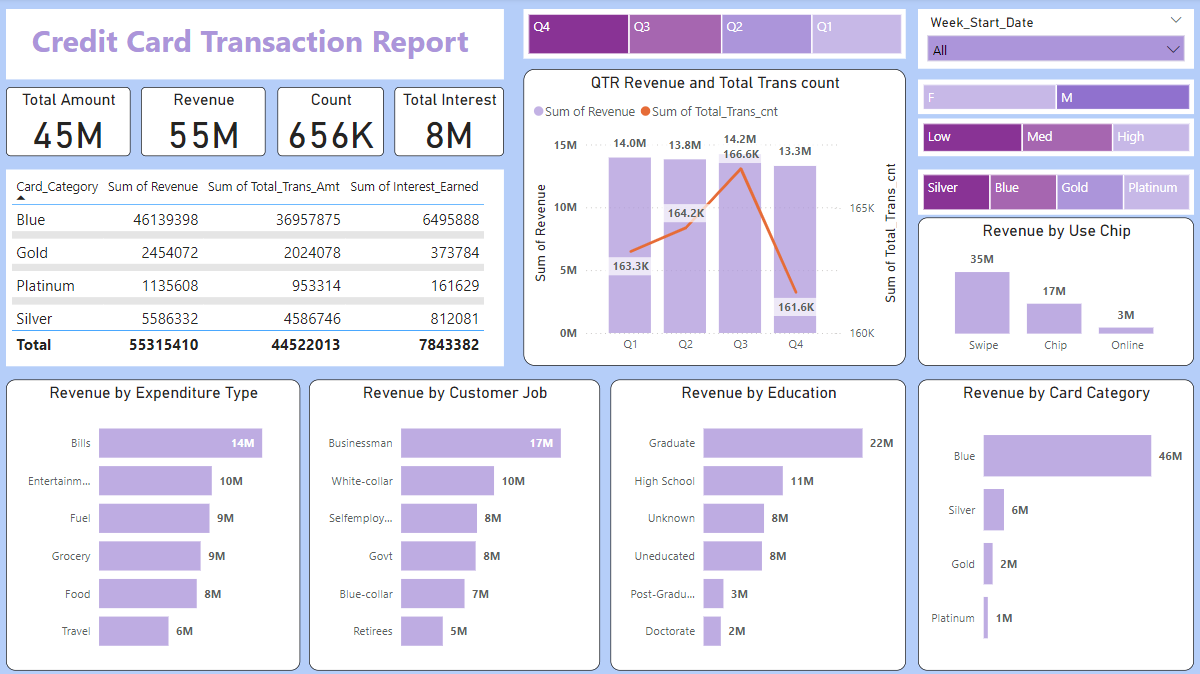

Layout of this report page (visuals, bound fields, positions):
{"tool":"powerbi","page":{"name":"Page 2","canvas":[1280,720],"ordinal":1},"visuals":[{"type":"textbox","box":[9.5,12.7,528.1,74.8],"z":0},{"type":"lineStackedColumnComboChart","title":"QTR Revenue and Total Trans count","fields":{"Category":["credit_card.Qtr"],"Y":["Sum(credit_card.Revenue)"],"Y2":["Sum(credit_card.Total_Trans_Vol)"]},"box":[558.3,76.3,405.6,314.9],"z":1000},{"type":"barChart","title":"Revenue by Expenditure Type","fields":{"Y":["Sum(credit_card.Revenue)"],"Category":["credit_card.Exp Type"]},"box":[9.5,405.6,311.8,308.6],"z":2000},{"type":"barChart","title":"Revenue by Education ","fields":{"Y":["Sum(credit_card.Revenue)"],"Category":["customer.Education_Level"]},"box":[650.6,405.6,313.4,308.6],"z":3000},{"type":"barChart","title":"Revenue by Customer Job ","fields":{"Y":["Sum(credit_card.Revenue)"],"Category":["customer.Customer_Job"]},"box":[330.8,405.6,308.6,308.6],"z":4000},{"type":"barChart","title":"Revenue by Card Category","fields":{"Y":["Sum(credit_card.Revenue)"],"Category":["credit_card.Card_Category"]},"box":[976.6,405.6,292.7,308.6],"z":5000},{"type":"clusteredColumnChart","title":"Revenue by  Use Chip","fields":{"Category":["credit_card.Use Chip"],"Y":["Sum(credit_card.Revenue)"]},"box":[976.6,233.8,292.7,157.5],"z":6000},{"type":"tableEx","fields":{"Values":["credit_card.Card_Category","Sum(credit_card.Revenue)","Sum(credit_card.Total_Trans_Amt)","Sum(credit_card.Interest_Earned)"]},"box":[9.5,182.9,528.1,208.4],"z":7000},{"type":"card","title":"Revenue","fields":{"Values":["Sum(credit_card.Revenue)"]},"box":[152.7,95.4,132,73.2],"z":8000},{"type":"card","title":"Total Amount","fields":{"Values":["Sum(credit_card.Total_Trans_Amt)"]},"box":[9.5,95.4,132,73.2],"z":9000},{"type":"card","title":"Total Interest","fields":{"Values":["Sum(credit_card.Interest_Earned)"]},"box":[421.5,95.4,116.1,73.2],"z":10000},{"type":"card","title":" Count","fields":{"Values":["Sum(credit_card.Total_Trans_cnt)"]},"box":[297.4,95.4,112.9,73.2],"z":11000},{"type":"slicer","fields":{"Values":["credit_card.Week_Start_Date"]},"box":[976.6,12.7,292.7,63.6],"z":11001},{"type":"treemap","fields":{"Group":["credit_card.Qtr"],"Values":["Avg(credit_card.Client_Num)"]},"box":[558.3,12.7,405.6,52.5],"z":11002},{"type":"treemap","fields":{"Group":["customer.Gender","credit_card.Qtr"],"Values":["Avg(credit_card.Client_Num)"]},"box":[976.6,87.5,292.7,36.6],"z":11003},{"type":"treemap","fields":{"Values":["Avg(credit_card.Client_Num)"],"Group":["credit_card.Card_Category"]},"box":[976.6,182.9,292.7,47.7],"z":11004},{"type":"treemap","fields":{"Group":["customer.IncomeGroup"],"Values":["Sum(credit_card.Avg_Utilization_Ratio)"]},"box":[976.6,128.8,292.7,39.8],"z":11005}]}

Visuals, with their boxes in screenshot pixels (x1, y1, x2, y2), scaled from the page's 1280x720 canvas onto the 1200x674 screenshot:
textbox: x1=9, y1=12, x2=504, y2=82
"QTR Revenue and Total Trans count" lineStackedColumnComboChart: x1=523, y1=71, x2=904, y2=366
"Revenue by Expenditure Type" barChart: x1=9, y1=380, x2=301, y2=669
"Revenue by Education " barChart: x1=610, y1=380, x2=904, y2=669
"Revenue by Customer Job " barChart: x1=310, y1=380, x2=599, y2=669
"Revenue by Card Category" barChart: x1=916, y1=380, x2=1190, y2=669
"Revenue by  Use Chip" clusteredColumnChart: x1=916, y1=219, x2=1190, y2=366
tableEx - credit_card.Card_Category x Sum(credit_card.Revenue): x1=9, y1=171, x2=504, y2=366
"Revenue" card: x1=143, y1=89, x2=267, y2=158
"Total Amount" card: x1=9, y1=89, x2=133, y2=158
"Total Interest" card: x1=395, y1=89, x2=504, y2=158
" Count" card: x1=279, y1=89, x2=385, y2=158
slicer - credit_card.Week_Start_Date: x1=916, y1=12, x2=1190, y2=71
treemap - credit_card.Qtr x Avg(credit_card.Client_Num): x1=523, y1=12, x2=904, y2=61
treemap - customer.Gender x credit_card.Qtr: x1=916, y1=82, x2=1190, y2=116
treemap - Avg(credit_card.Client_Num) x credit_card.Card_Category: x1=916, y1=171, x2=1190, y2=216
treemap - customer.IncomeGroup x Sum(credit_card.Avg_Utilization_Ratio): x1=916, y1=121, x2=1190, y2=158
